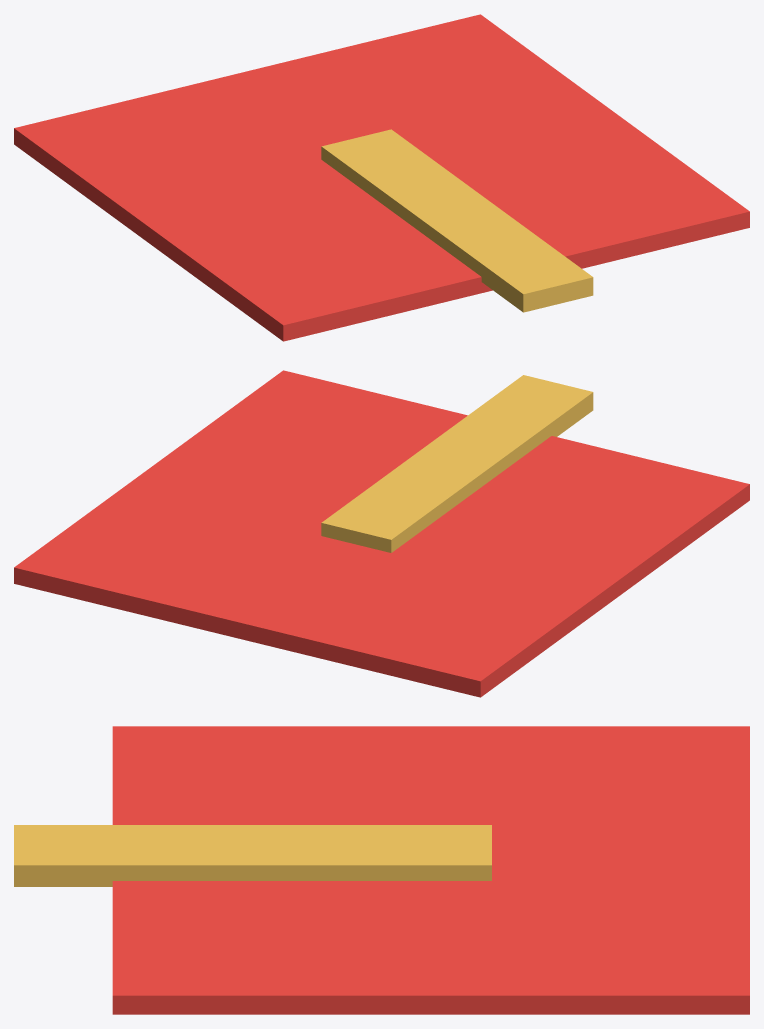
Rendered from marker.sniper_perch.glb.
3 renders of one model, top to bottom at view 1: azimuth 30°, elevation 25°; view 2: azimuth 150°, elevation 25°; view 3: azimuth 270°, elevation 25°, orthographic. The views are drawn at different scales.
Visible parts, largest first — view 1: marker_disc, facing_tick; view 2: marker_disc, facing_tick; view 3: marker_disc, facing_tick.
Boxes of the visible parts, left/top/right/bottom form: marker_disc: left=14, top=14, right=749, bottom=341; facing_tick: left=321, top=129, right=593, bottom=312; marker_disc: left=14, top=370, right=749, bottom=697; facing_tick: left=321, top=375, right=593, bottom=552; marker_disc: left=112, top=726, right=749, bottom=1014; facing_tick: left=14, top=825, right=491, bottom=886.
Bounding box in the file's own units: 1.2 × 0.0725 × 1.39.
